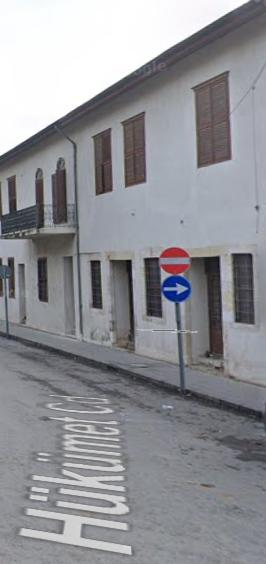turnright: (163, 274, 190, 302)
